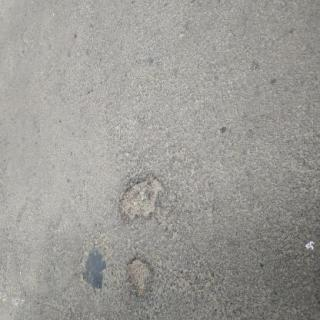pothole: (118, 173, 166, 221), (125, 256, 157, 302)
